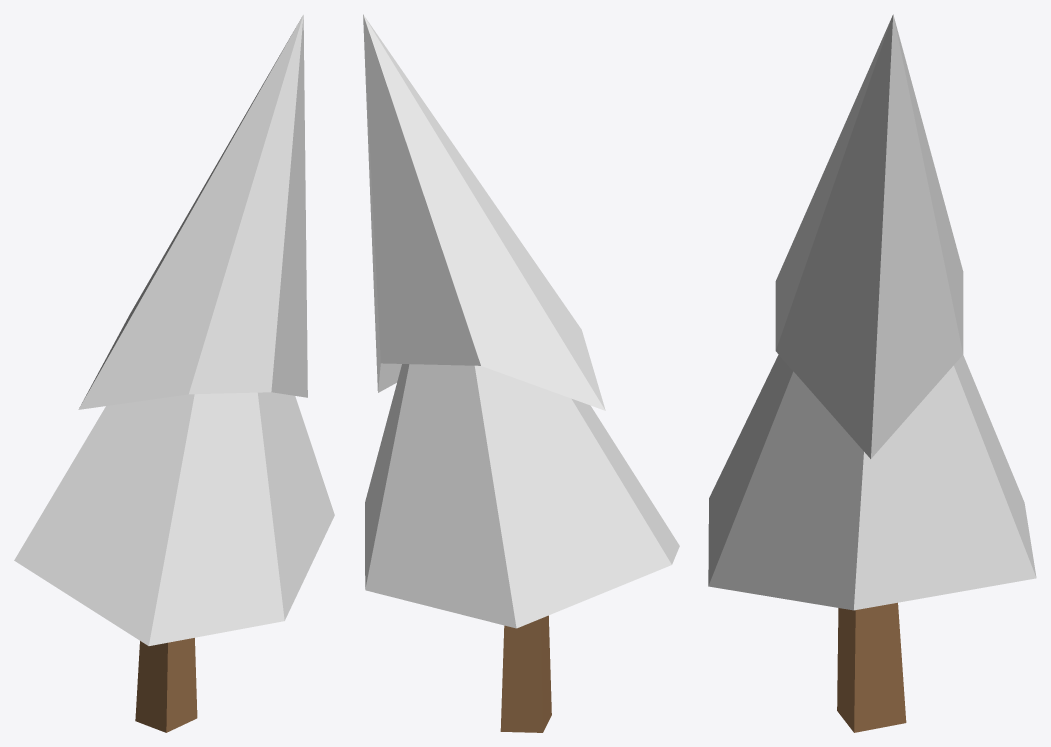
File: Pine_Tree_OneSided_s_Snow_10_LOD.fbx
The picture shows the model from 3 angles, left to right: view 1: azimuth 30°, elevation 25°; view 2: azimuth 150°, elevation 25°; view 3: azimuth 270°, elevation 25°; orthographic projection. The views are drawn at different scales.
Parts seen in each view (by area): view 1: Pine_Tree_OneSided_s_Snow_10_LOD0; view 2: Pine_Tree_OneSided_s_Snow_10_LOD0; view 3: Pine_Tree_OneSided_s_Snow_10_LOD0.
Part boxes in pixels (x1,y1,x2,y2): Pine_Tree_OneSided_s_Snow_10_LOD0: [14, 14, 334, 732]; Pine_Tree_OneSided_s_Snow_10_LOD0: [363, 14, 679, 732]; Pine_Tree_OneSided_s_Snow_10_LOD0: [708, 14, 1036, 732].
Size of what is drawn, in the model's own units: 73.98 by 151 by 56.8.
